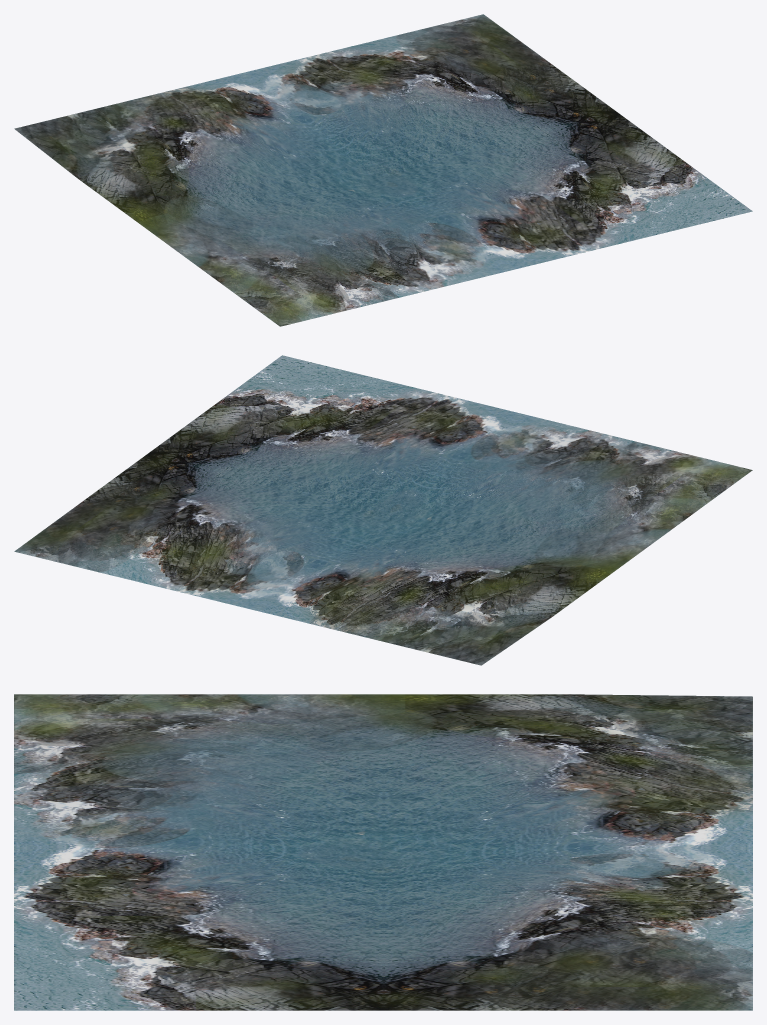
File: xuanrenchangjing_shanshuimian_01.FBX
3 renders of one model, top to bottom at view 1: azimuth 30°, elevation 25°; view 2: azimuth 150°, elevation 25°; view 3: azimuth 270°, elevation 25°, orthographic. The views are drawn at different scales.
Parts seen in each view (by area): view 1: Plane002; view 2: Plane002; view 3: Plane002.
Part boxes in pixels (bbox=[...]): Plane002: bbox=[14, 14, 752, 326]; Plane002: bbox=[14, 355, 752, 665]; Plane002: bbox=[14, 694, 752, 1010].
Size of the model in its own units: 32.07 by 1.57 by 31.66.
